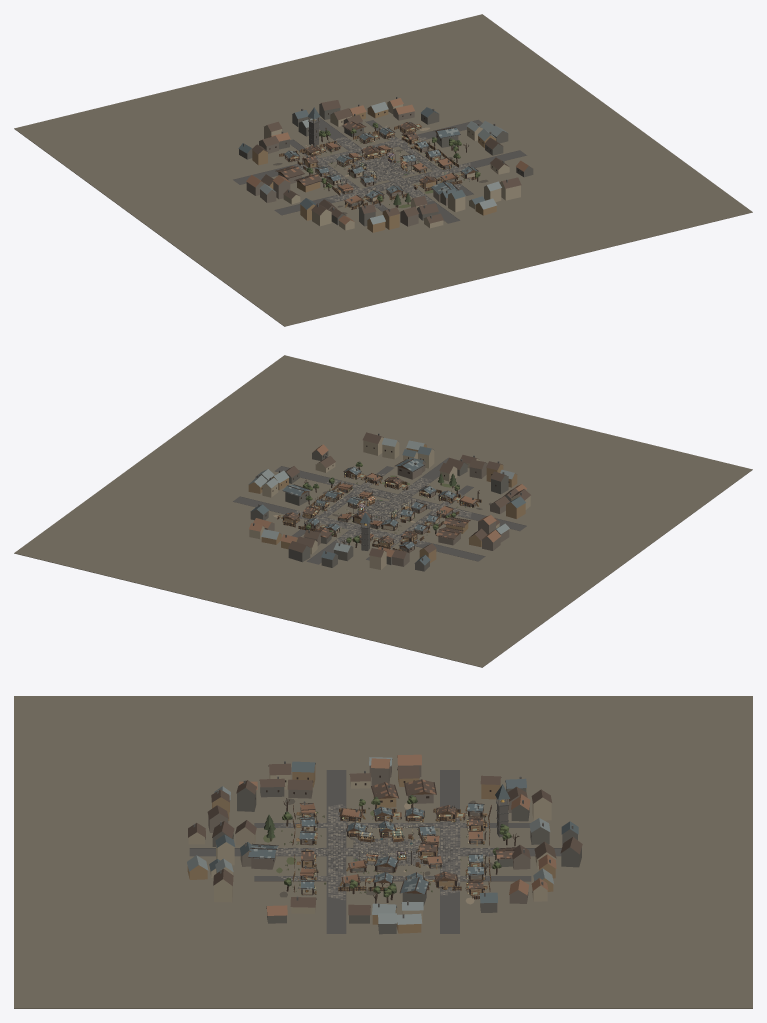
The model's file is feketepiac.glb.
The picture shows the model from 3 angles, top to bottom: view 1: azimuth 30°, elevation 25°; view 2: azimuth 150°, elevation 25°; view 3: azimuth 270°, elevation 25°; orthographic projection. The views are drawn at different scales.
Visible parts, largest first — view 1: batch_earth, batch_stone_dark, batch_far_roof_umber, batch_far_plaster_chalk, batch_far_plaster_soot, batch_far_slate_blue, batch_far_plaster_ochre, batch_far_wood_dark, batch_far_stone, batch_far_plaster, batch_far_roof_rust, batch_far_slate_faded (+6 smaller); view 2: batch_earth, batch_stone_dark, batch_far_roof_umber, batch_far_plaster_soot, batch_far_plaster_chalk, batch_far_slate_blue, batch_far_plaster, batch_far_wood_dark, batch_far_plaster_ochre, batch_far_stone, batch_far_slate_faded, batch_far_roof_rust (+6 smaller); view 3: batch_earth, batch_stone_dark, batch_far_roof_umber, batch_far_plaster_soot, batch_far_slate_blue, batch_far_plaster_chalk, batch_far_roof_rust, batch_far_stone, batch_far_slate_faded, batch_far_wood_dark, batch_far_plaster, batch_stone (+9 smaller).
Part boxes in pixels (x1,y1,x2,y2): batch_earth: [14, 14, 752, 326]; batch_stone_dark: [233, 117, 526, 223]; batch_far_roof_umber: [252, 100, 521, 223]; batch_far_plaster_chalk: [264, 101, 520, 230]; batch_far_plaster_soot: [239, 103, 533, 226]; batch_far_slate_blue: [238, 107, 484, 209]; batch_far_plaster_ochre: [252, 106, 496, 232]; batch_far_wood_dark: [269, 111, 522, 209]; batch_far_stone: [243, 97, 507, 218]; batch_far_plaster: [246, 108, 447, 226]; batch_far_roof_rust: [246, 98, 528, 224]; batch_far_slate_faded: [259, 102, 508, 224]; batch_earth: [14, 355, 752, 667]; batch_stone_dark: [233, 457, 526, 564]; batch_far_roof_umber: [282, 432, 530, 558]; batch_far_plaster_soot: [250, 450, 511, 571]; batch_far_plaster_chalk: [249, 437, 530, 569]; batch_far_slate_blue: [250, 446, 525, 565]; batch_far_plaster: [264, 461, 509, 566]; batch_far_wood_dark: [261, 445, 509, 552]; batch_far_plaster_ochre: [248, 444, 525, 562]; batch_far_stone: [253, 433, 521, 560]; batch_far_slate_faded: [248, 438, 517, 552]; batch_far_roof_rust: [249, 444, 526, 557]; batch_earth: [14, 696, 752, 1008]; batch_stone_dark: [189, 770, 561, 933]; batch_far_roof_umber: [188, 763, 582, 915]; batch_far_plaster_soot: [212, 783, 581, 934]; batch_far_slate_blue: [209, 761, 578, 903]; batch_far_plaster_chalk: [188, 773, 555, 923]; batch_far_roof_rust: [239, 754, 556, 915]; batch_far_stone: [193, 761, 573, 918]; batch_far_slate_faded: [187, 757, 553, 924]; batch_far_wood_dark: [205, 775, 536, 899]; batch_far_plaster: [208, 762, 530, 903]; batch_stone: [313, 822, 452, 880].
Size of the model in its own units: 80 by 6.2 by 80.
